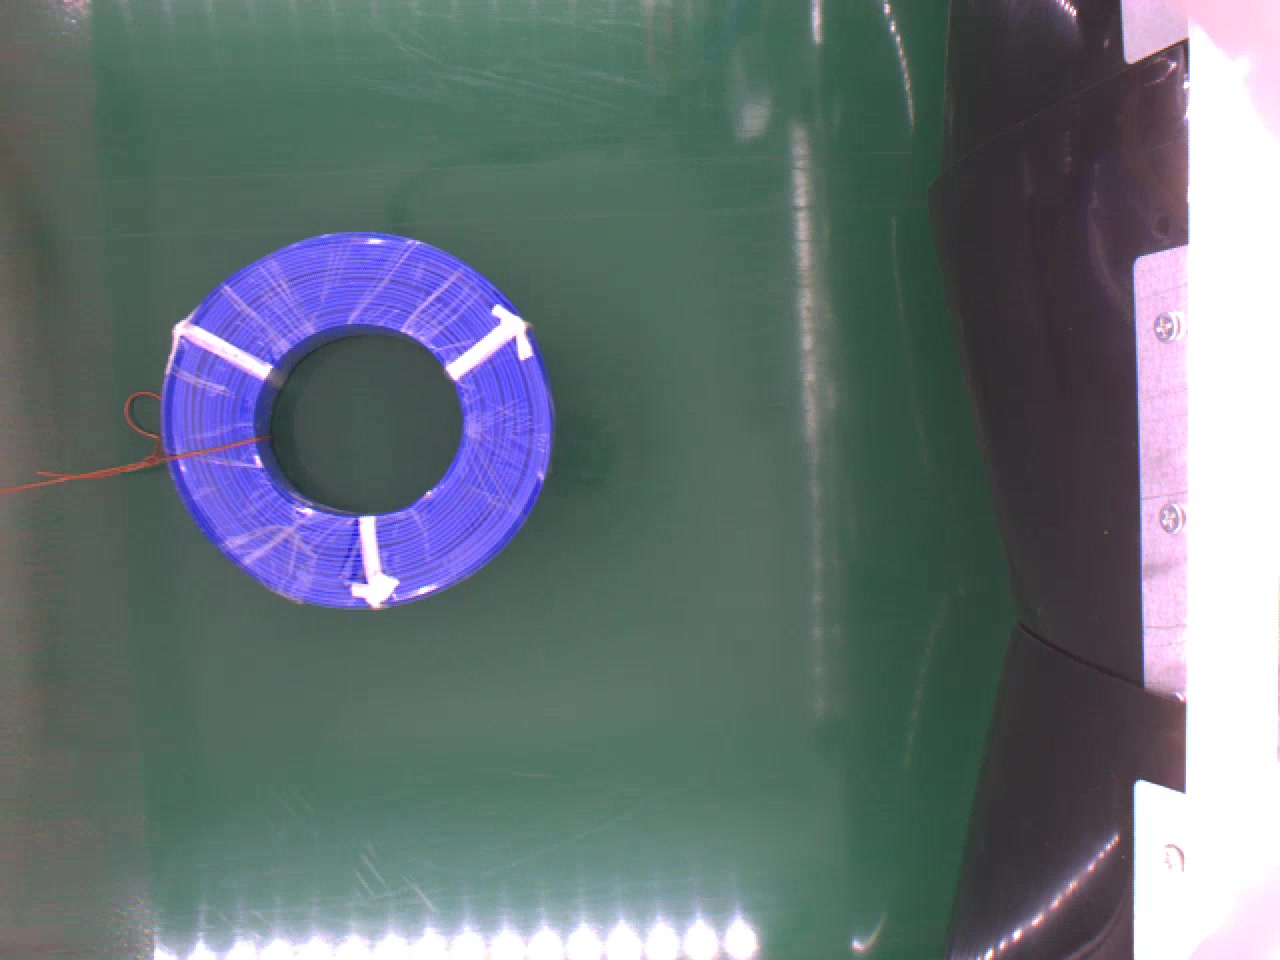blue: (164, 230, 556, 603)
